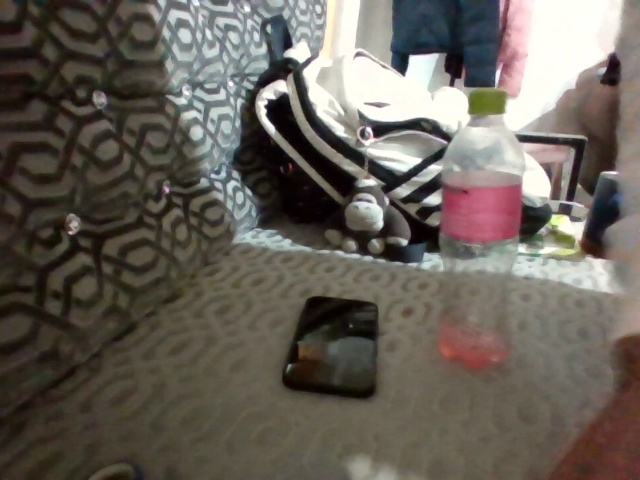botella: (426, 107, 538, 274)
celular: (277, 291, 391, 404)
taza: (574, 86, 640, 277)
